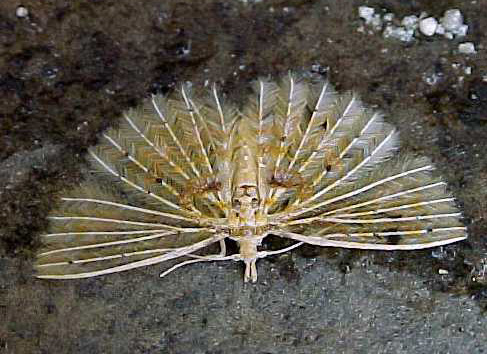Alucitidae: (27, 61, 471, 293)
moth: (29, 63, 473, 295)
